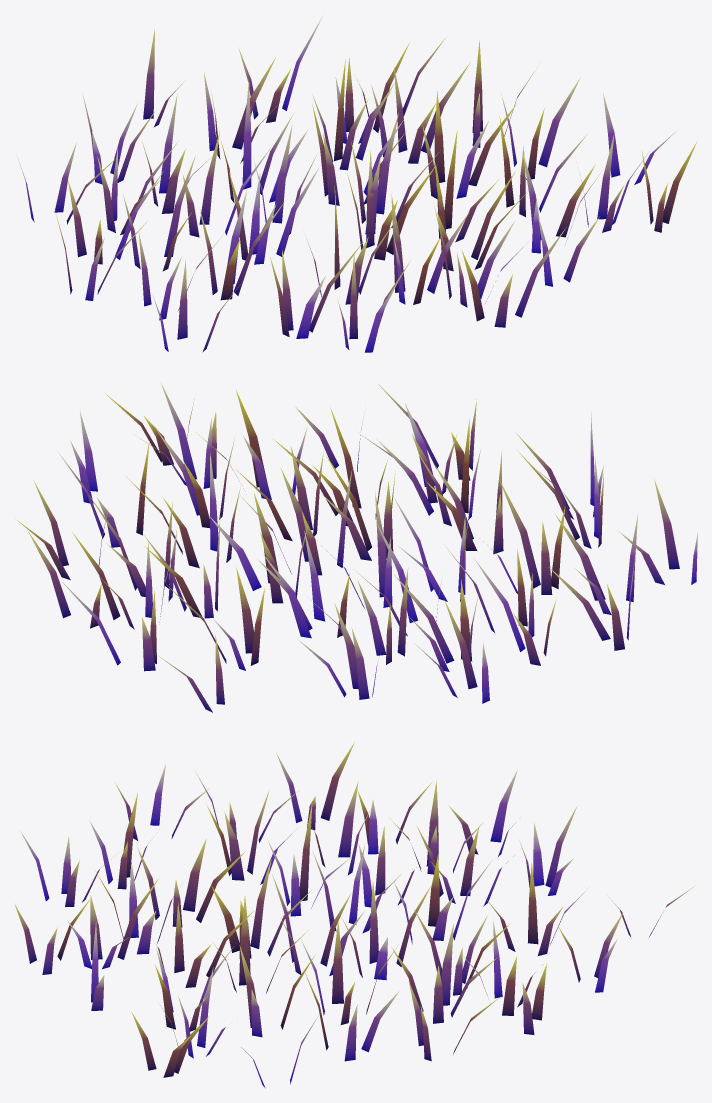
File: SM_ForestLawnGrass.fbx
3 renders of one model, top to bottom at view 1: azimuth 30°, elevation 25°; view 2: azimuth 150°, elevation 25°; view 3: azimuth 270°, elevation 25°, orthographic. The views are drawn at different scales.
Parts seen in each view (by area): view 1: SM_ForestLawnGrass_LOD0; view 2: SM_ForestLawnGrass_LOD0; view 3: SM_ForestLawnGrass_LOD0.
Part boxes in pixels (<box>): SM_ForestLawnGrass_LOD0: <box>17,16,697,352</box>; SM_ForestLawnGrass_LOD0: <box>17,382,697,712</box>; SM_ForestLawnGrass_LOD0: <box>14,742,695,1088</box>.
Size of the model in its own units: 1.49 by 1.52 by 0.2306.
